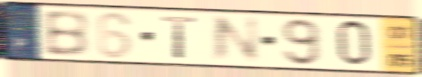0: (333, 17, 375, 70)
6: (94, 10, 137, 61)
9: (279, 17, 323, 68)
B: (40, 9, 91, 59)
N: (210, 15, 262, 64)
T: (160, 15, 201, 61)
